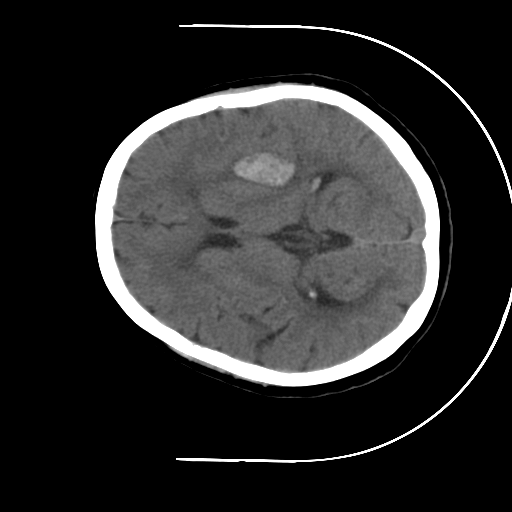a: (208, 143, 305, 197)
